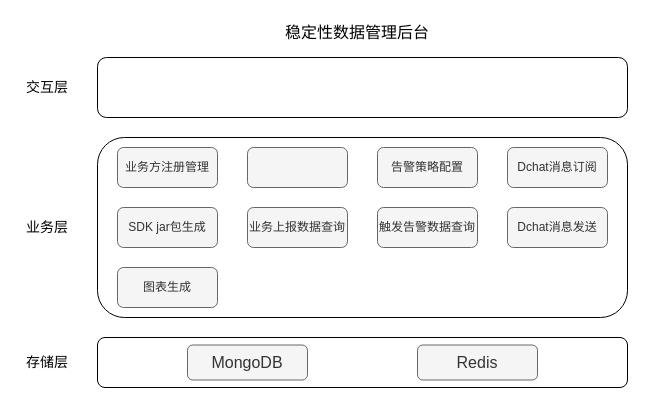
Some shapes in this 645 by 413 pixel diagram are drawn without their labels. Here are the shapes that lost their labels. From the top down, the centre of each, then its label:
At pixel 362 87: "WEB客户端".
At pixel 297 167: "数据采集模版管理".
